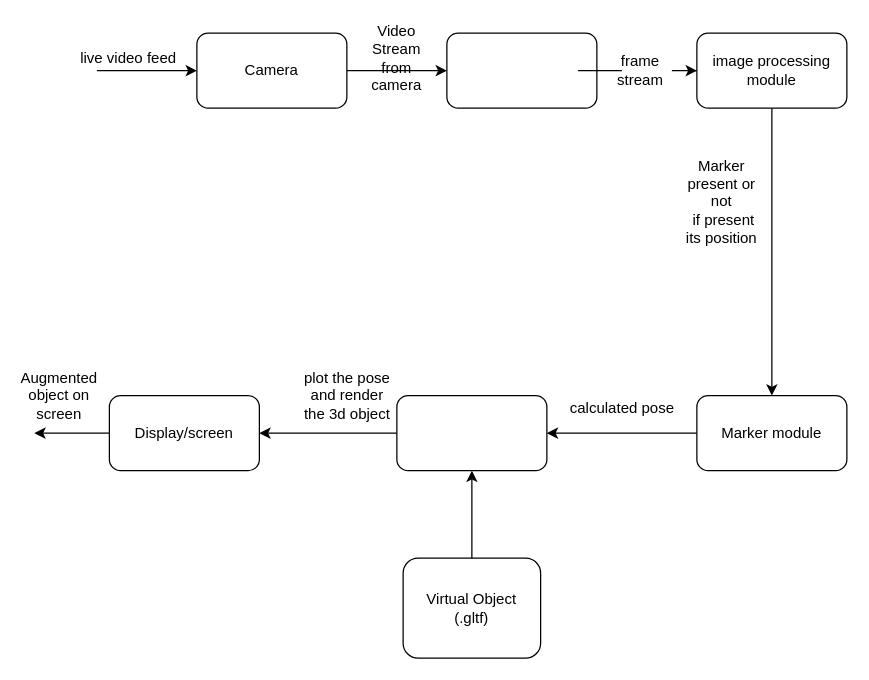
Some shapes in this 869 by 680 pixel diagram are drawn without their labels. Each missing label, with the centre of its shape:
"Renderer" belongs at pixel 471 432.
"Web Browser" belongs at pixel 521 70.
